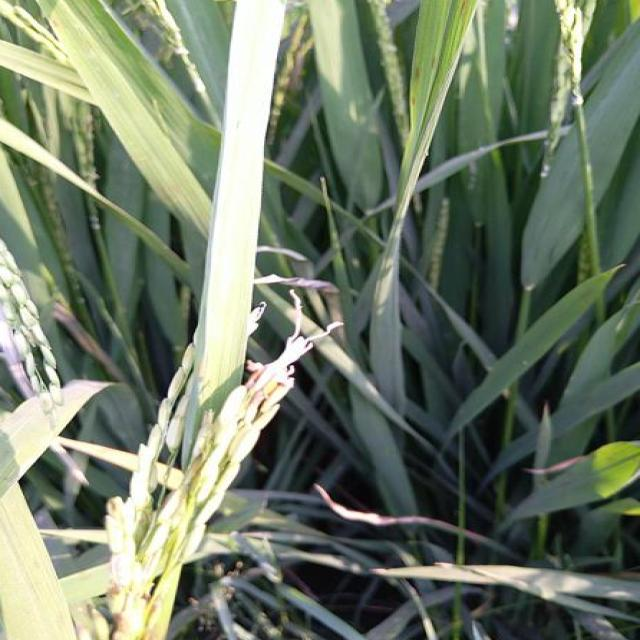Panicle Blight: (106, 587, 132, 640)
